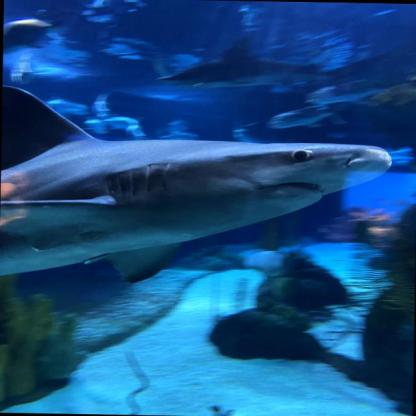fish: (3, 15, 62, 56)
shark: (0, 84, 395, 288), (154, 38, 389, 94)
